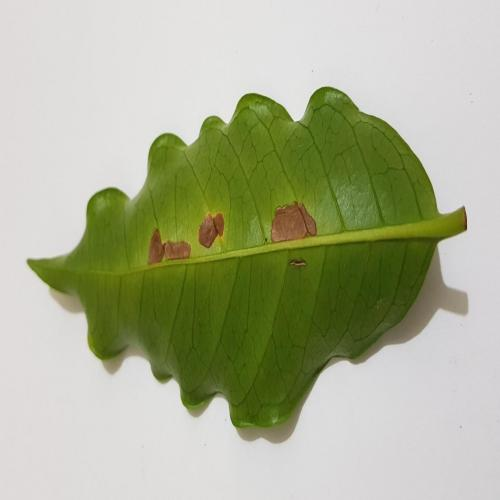leaf: (271, 202, 317, 244)
